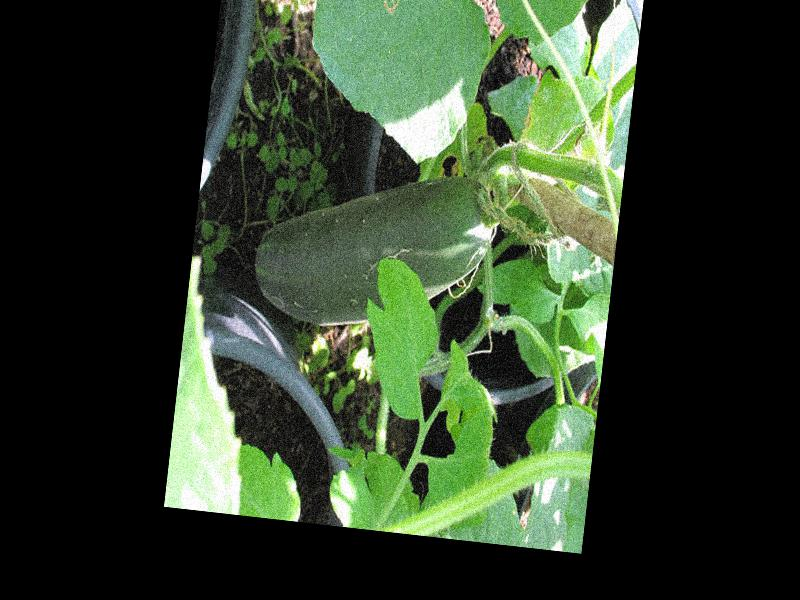Cucumber: (249, 154, 499, 342)
